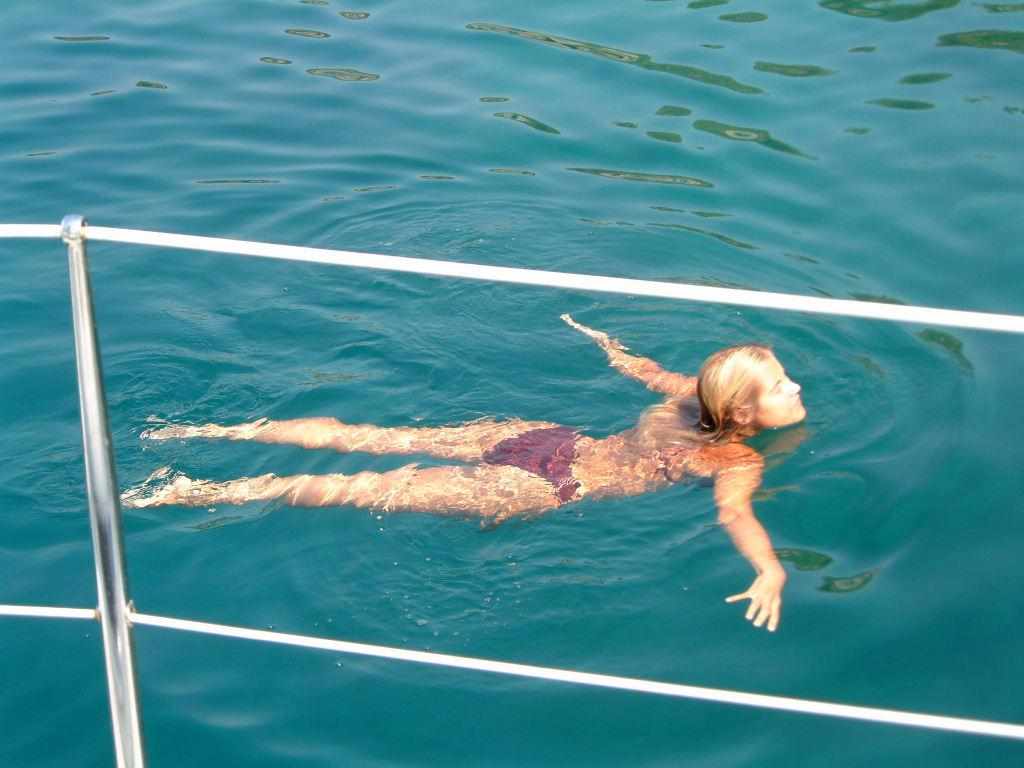human: (114, 316, 812, 640)
